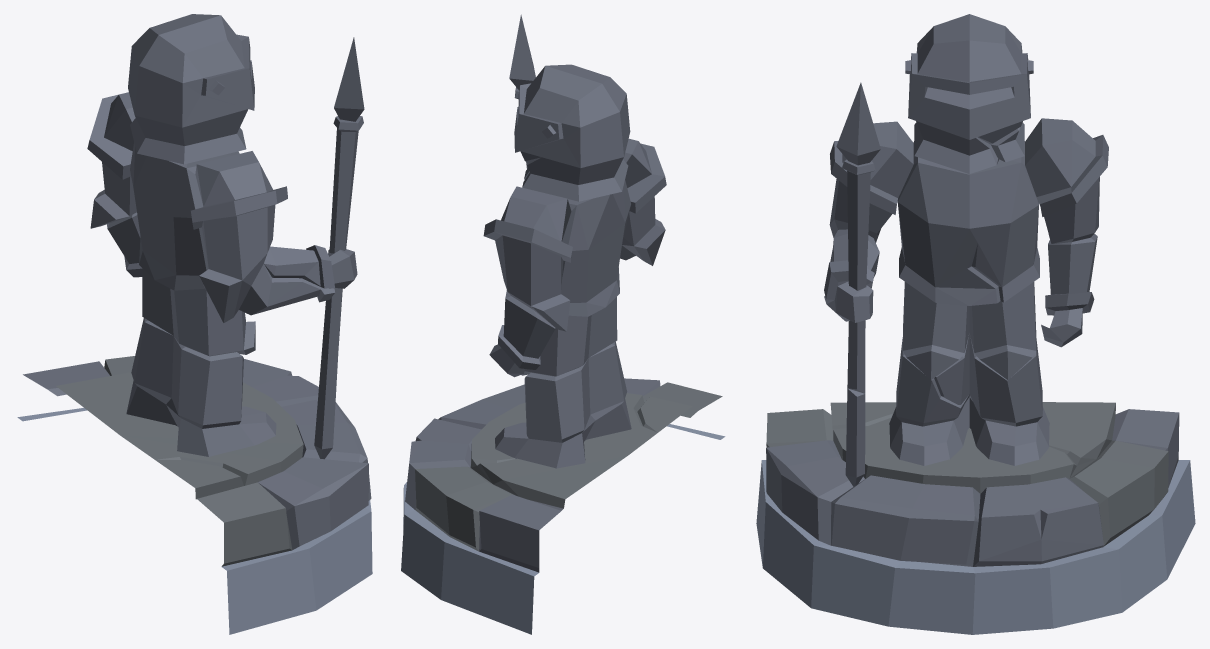
Rendered from Stone_Statue.gltf.
3 renders of one model, left to right at view 1: azimuth 30°, elevation 25°; view 2: azimuth 150°, elevation 25°; view 3: azimuth 270°, elevation 25°, orthographic. The views are drawn at different scales.
Parts seen in each view (by area): view 1: Stone_Statue2; view 2: Stone_Statue2; view 3: Stone_Statue2.
Boxes of the visible parts, x1,y1,x2,y2 form: Stone_Statue2: [17, 14, 372, 634]; Stone_Statue2: [401, 14, 725, 634]; Stone_Statue2: [756, 14, 1195, 634].
Bounding box in the file's own units: 0.3396 × 0.7566 × 0.5669.
Materials: 1 (1 with a texture image).
